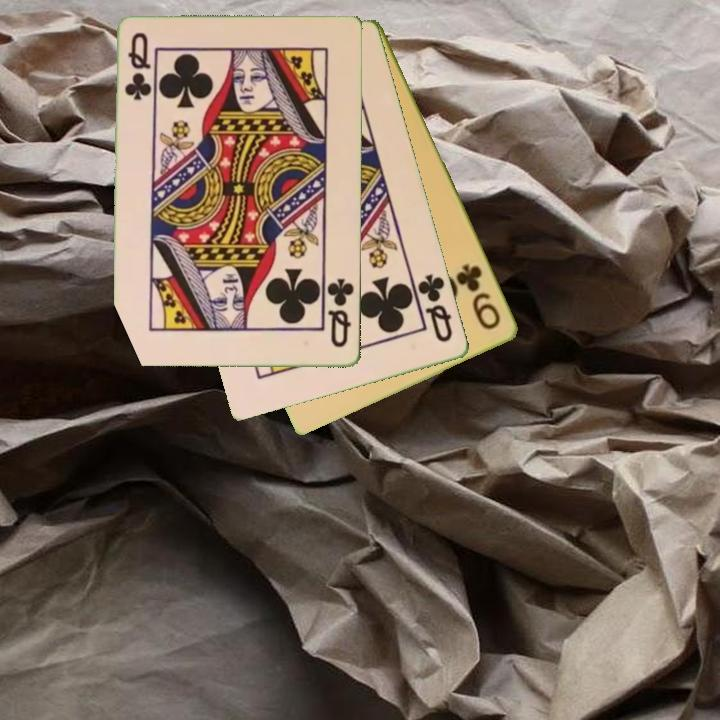9c: (453, 260, 504, 333)
Qc: (410, 270, 456, 346), (324, 275, 358, 351), (122, 29, 153, 104)
